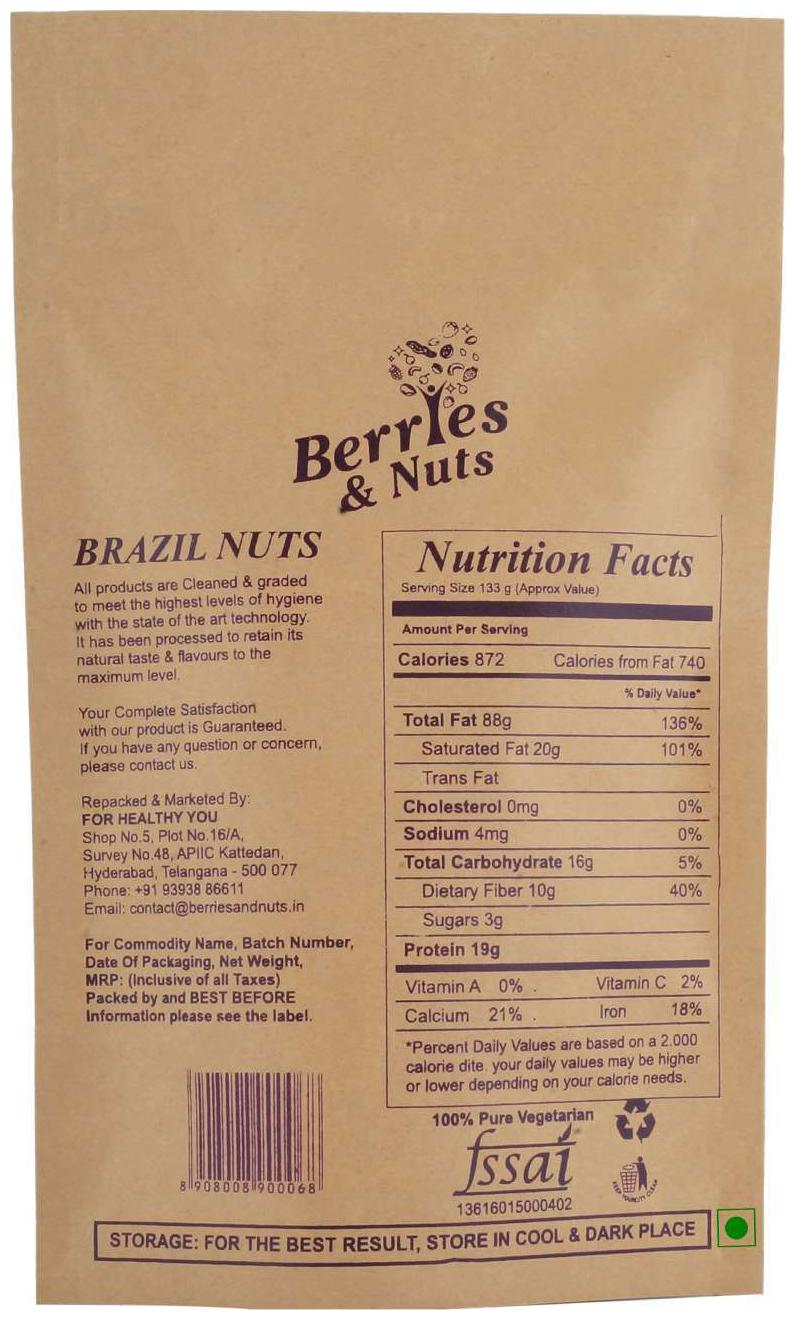fssai: (452, 1129, 576, 1196)
